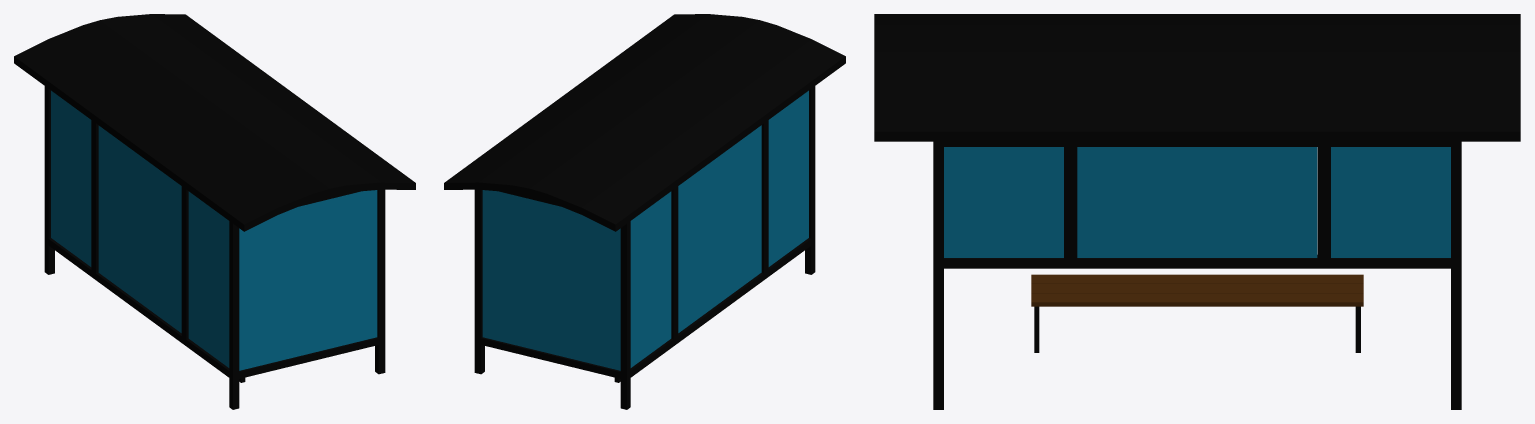
File: Bus Stop.fbx
The picture shows the model from 3 angles, left to right: view 1: azimuth 30°, elevation 25°; view 2: azimuth 150°, elevation 25°; view 3: azimuth 270°, elevation 25°; orthographic projection. The views are drawn at different scales.
Parts seen in each view (by area): view 1: Bus Stop; view 2: Bus Stop; view 3: Bus Stop.
Boxes of the visible parts, x1,y1,x2,y2 form: Bus Stop: (14, 14, 415, 409); Bus Stop: (444, 14, 845, 409); Bus Stop: (874, 14, 1520, 409).
Size of the model in its own units: 3.07 by 3.9 by 7.13.
